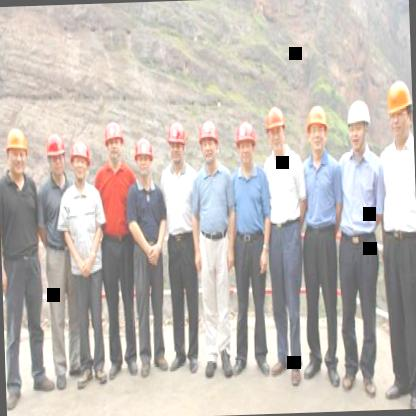helmet: (384, 76, 414, 146), (304, 101, 332, 157), (345, 96, 372, 154), (4, 124, 31, 180), (233, 118, 259, 170), (197, 117, 222, 167), (264, 104, 288, 155), (100, 119, 127, 164), (68, 138, 92, 184), (45, 130, 67, 178), (134, 135, 156, 182), (166, 118, 186, 165)
